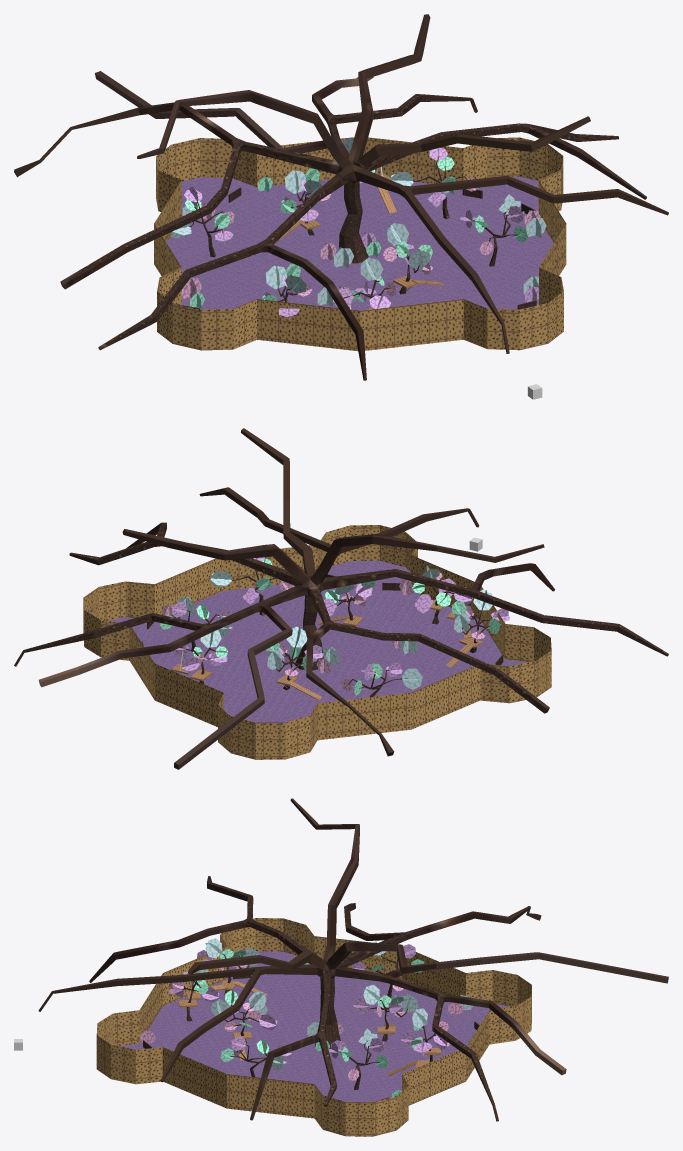
File: Assets_for_BloodySugar_V4.fbx
The picture shows the model from 3 angles, top to bottom: view 1: azimuth 30°, elevation 25°; view 2: azimuth 150°, elevation 25°; view 3: azimuth 270°, elevation 25°; orthographic projection. The views are drawn at different scales.
Parts seen in each view (by area): view 1: Arena.001, MegaTree, Arena; view 2: Arena.001, MegaTree, Arena; view 3: Arena.001, Arena, MegaTree.
Boxes of the visible parts, x1,y1,x2,y2 form: Arena.001: [154, 137, 566, 351]; MegaTree: [14, 14, 668, 380]; Arena: [166, 176, 553, 310]; Arena.001: [83, 525, 551, 759]; MegaTree: [14, 428, 668, 769]; Arena: [107, 560, 527, 722]; Arena.001: [96, 918, 531, 1136]; Arena: [118, 951, 510, 1101]; MegaTree: [38, 798, 668, 1121].
Size of the model in its own units: 12870 by 3922 by 14620.
